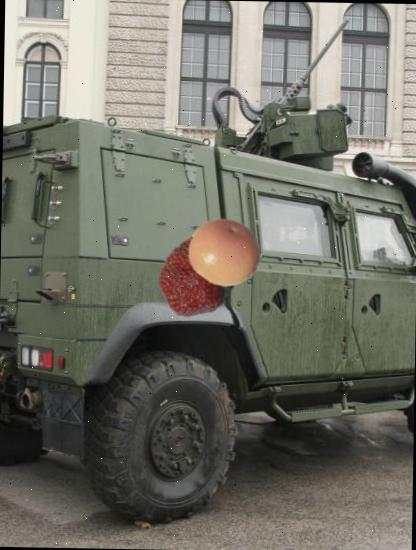Grapefruit: (188, 215, 261, 288)
Strawberry: (152, 229, 245, 322)
